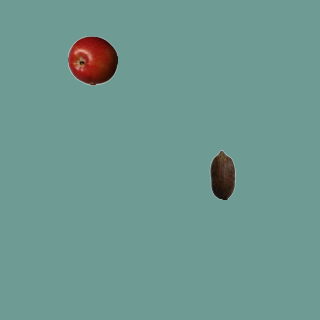Apple Braeburn: (67, 35, 117, 85)
Nut Pecan: (197, 149, 247, 199)
